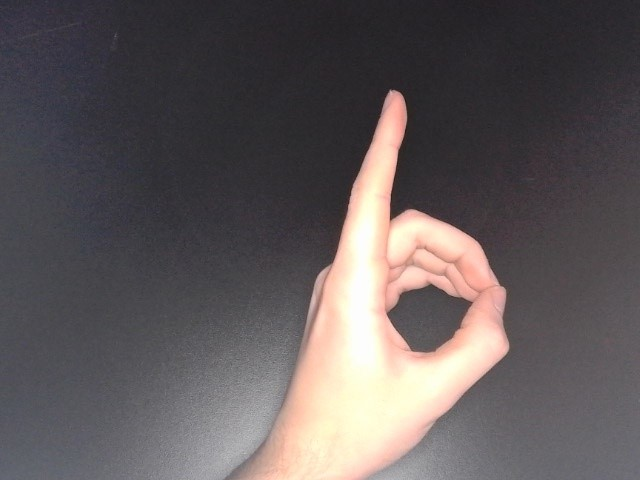d: (256, 82, 519, 473)
